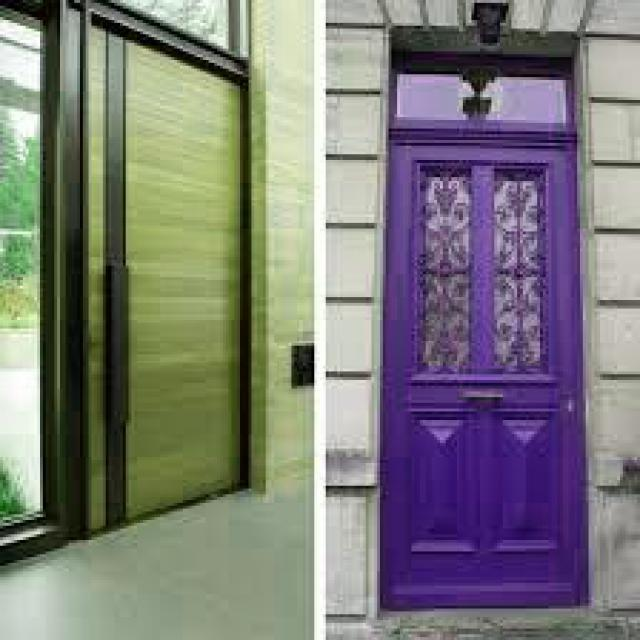door: (358, 7, 613, 627), (75, 4, 267, 561)
